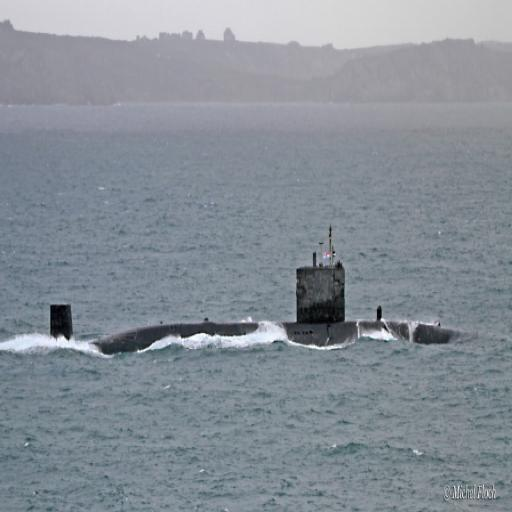submarine: (42, 260, 470, 348)
